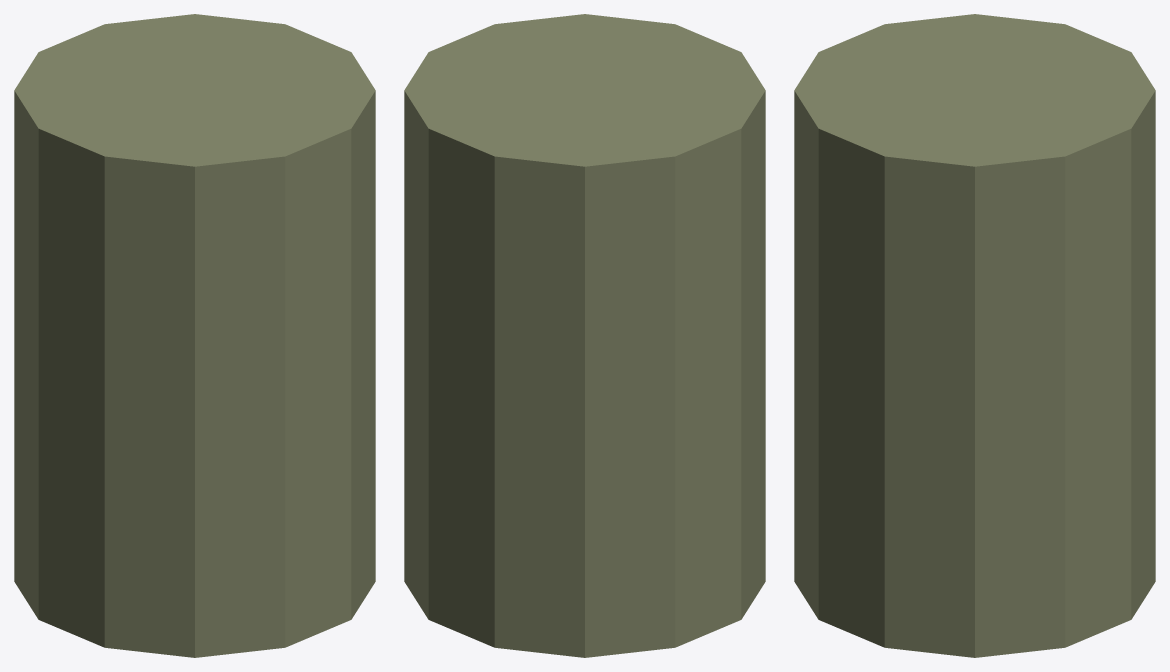
File: barrel.glb
3 views of the same model, side by side, from view 1: azimuth 30°, elevation 25°; view 2: azimuth 150°, elevation 25°; view 3: azimuth 270°, elevation 25° (orthographic).
Parts seen in each view (by area): view 1: barrel; view 2: barrel; view 3: barrel.
Part boxes in pixels (x1,y1,x2,y2): barrel: (14, 14, 375, 657); barrel: (404, 14, 765, 657); barrel: (794, 14, 1155, 657).
Size of the model in its own units: 0.6 by 0.9 by 0.6.
